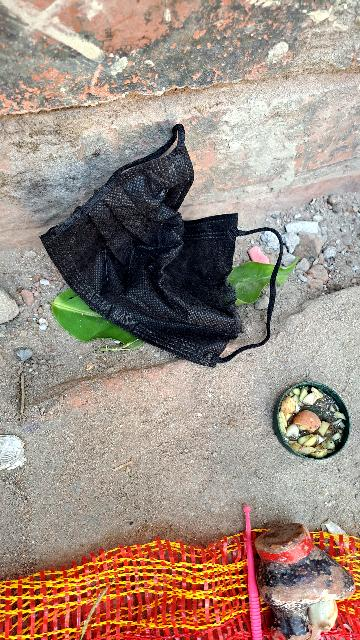mask: (39, 93, 341, 390)
